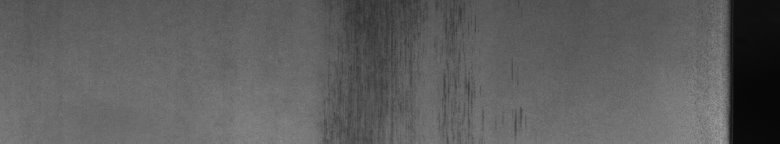ka: (324, 4, 524, 136)
